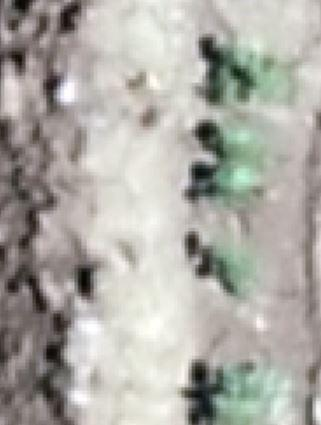cotton: (219, 70, 260, 102), (222, 131, 262, 159), (217, 253, 249, 285), (219, 368, 257, 394), (214, 395, 252, 420), (218, 166, 251, 193), (234, 52, 268, 78)
